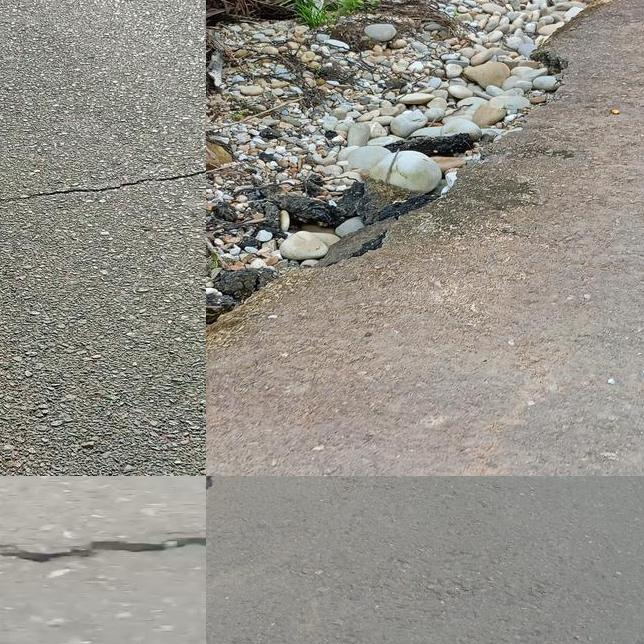Melintang: (0, 506, 206, 581), (0, 156, 206, 216)
Pinggir: (206, 20, 599, 380)
